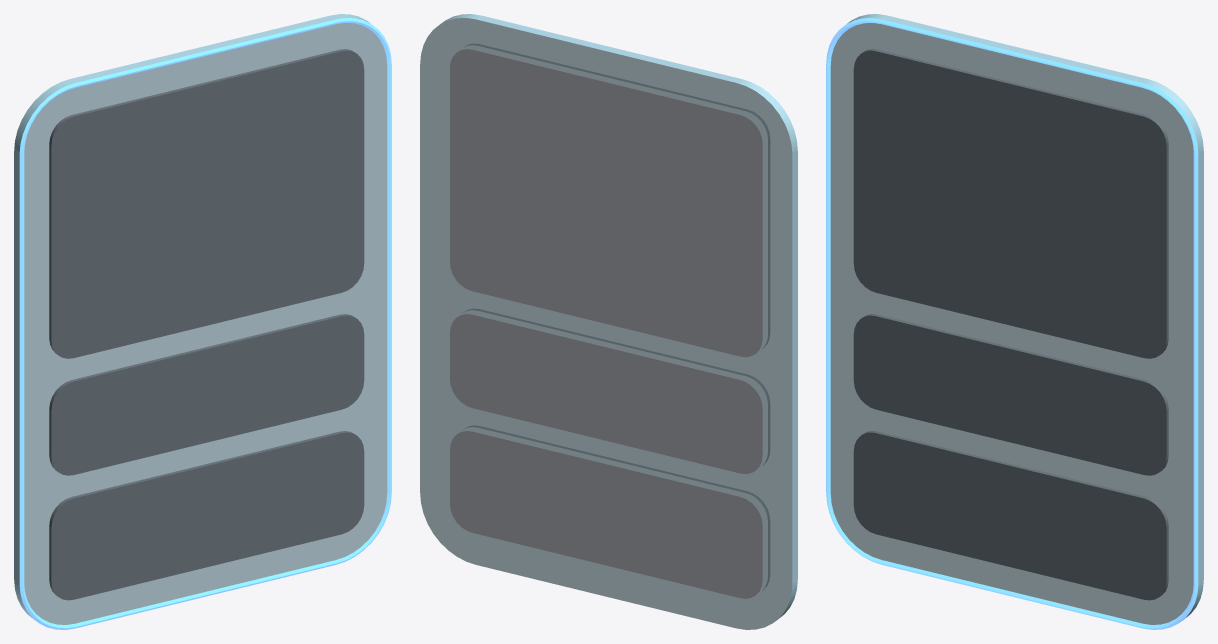
Rendered from content-card-1e37ea.glb.
3 renders of one model, left to right at view 1: azimuth 30°, elevation 25°; view 2: azimuth 150°, elevation 25°; view 3: azimuth 330°, elevation 25°, orthographic.
Visible parts, largest first — view 1: rim-and-slots, glass, accent-line; view 2: glass, rim-and-slots; view 3: rim-and-slots, glass, accent-line.
Part boxes in pixels (box(x1,y1,x2,y2)): rim-and-slots: box(14, 14, 370, 621); glass: box(24, 23, 387, 624); accent-line: box(19, 18, 391, 629); glass: box(420, 18, 792, 629); rim-and-slots: box(441, 14, 797, 621); rim-and-slots: box(847, 14, 1203, 621); glass: box(830, 23, 1193, 624); accent-line: box(826, 18, 1198, 629).
Bounding box in the file's own units: 0.2 × 0.28 × 0.007.
